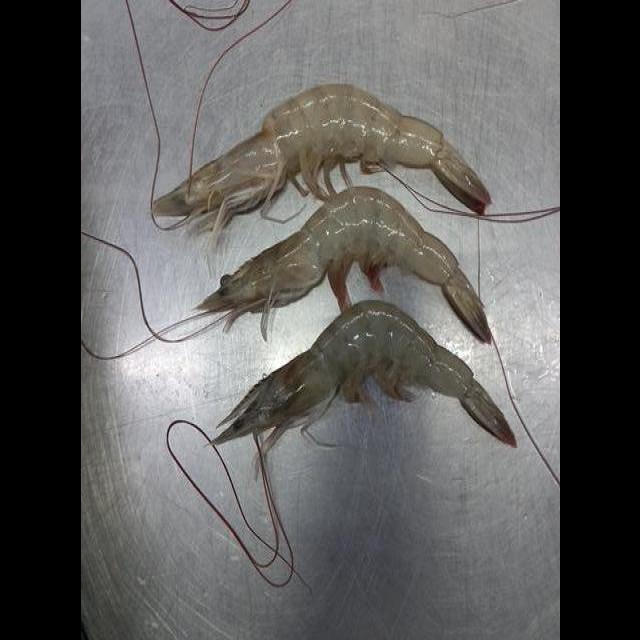shrimp: (151, 85, 489, 233), (211, 300, 514, 452), (196, 187, 489, 343)
